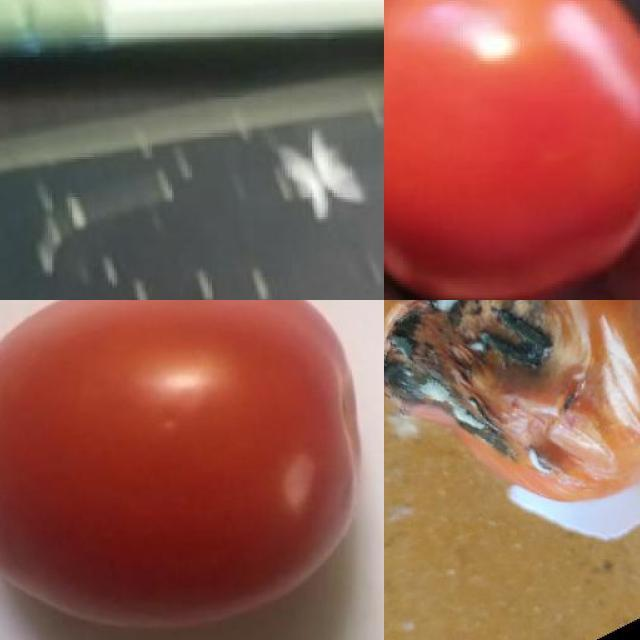Fresh Tomato: (0, 300, 384, 631), (384, 0, 640, 300)
Rotten Tomato: (384, 300, 640, 540)
